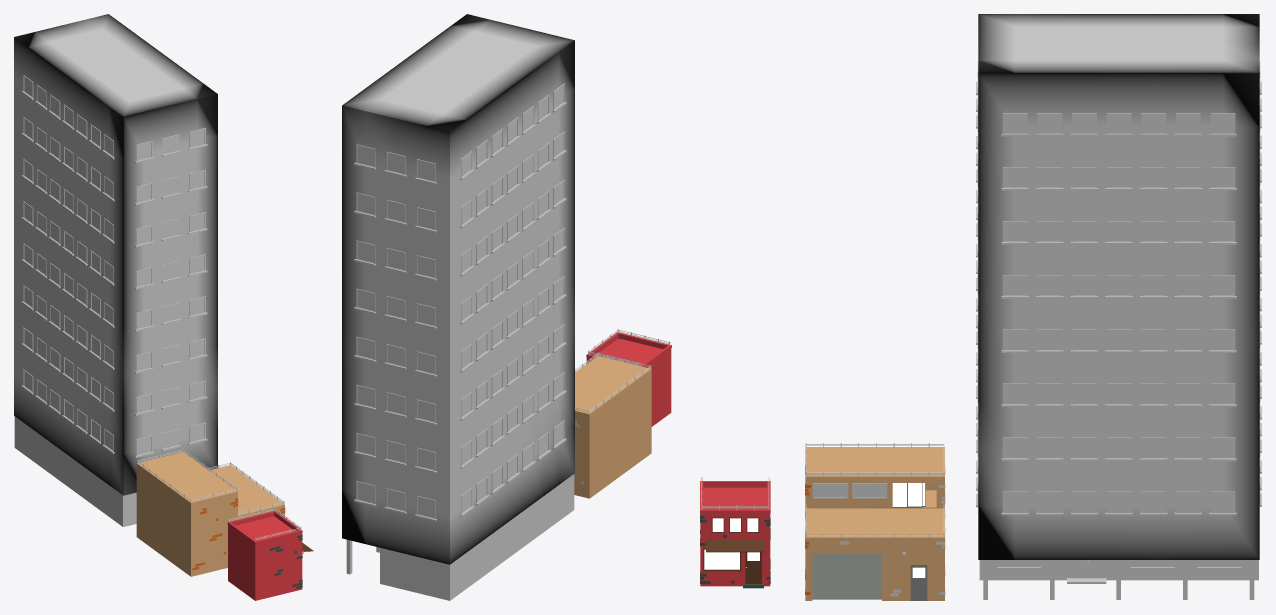
The model's file is buildings.fbx.
The picture shows the model from 3 angles, left to right: view 1: azimuth 30°, elevation 25°; view 2: azimuth 150°, elevation 25°; view 3: azimuth 270°, elevation 25°; orthographic projection. The views are drawn at different scales.
Parts seen in each view (by area): view 1: Cube.119, Cube.054, Cube, Cube.109; view 2: Cube.119, Cube.054, Cube.109, Cube, Cube.119|Cube.120|Dupli|85, Cube.119|Cube.120|Dupli|89, Cube.119|Cube.120|Dupli|155, Cube.119|Cube.120|Dupli|87, Cube.119|Cube.120|Dupli|91, Cube.119|Cube.120|Dupli|153, Cube.119|Cube.120|Dupli|154, Cube.119|Cube.120|Dupli|156 (+16 smaller); view 3: Cube.119, Cube.054, Cube, Cube.109, Cube.003, Cube.121.
Boxes of the visible parts, left/top/right/bottom form: Cube.119: left=14, top=14, right=217, bottom=495; Cube.054: left=136, top=452, right=284, bottom=576; Cube: left=227, top=511, right=302, bottom=600; Cube.109: left=14, top=416, right=136, bottom=526; Cube.119: left=342, top=14, right=574, bottom=564; Cube.054: left=574, top=356, right=651, bottom=498; Cube.109: left=380, top=474, right=574, bottom=600; Cube: left=586, top=332, right=671, bottom=426; Cube.119|Cube.120|Dupli|85: left=354, top=384, right=376, bottom=410; Cube.119|Cube.120|Dupli|89: left=354, top=288, right=376, bottom=314; Cube.119|Cube.120|Dupli|155: left=384, top=344, right=406, bottom=369; Cube.119|Cube.120|Dupli|87: left=354, top=336, right=376, bottom=362; Cube.119|Cube.120|Dupli|91: left=354, top=240, right=376, bottom=266; Cube.119|Cube.120|Dupli|153: left=384, top=440, right=406, bottom=465; Cube.119|Cube.120|Dupli|154: left=384, top=392, right=406, bottom=417; Cube.119|Cube.120|Dupli|156: left=384, top=296, right=406, bottom=321; Cube.119: left=978, top=14, right=1259, bottom=559; Cube.054: left=805, top=447, right=944, bottom=600; Cube: left=700, top=481, right=770, bottom=586; Cube.109: left=979, top=560, right=1258, bottom=580; Cube.003: left=706, top=539, right=764, bottom=552; Cube.121: left=703, top=548, right=741, bottom=571.
Size of the model in its own units: 415 by 1669 by 1609.
